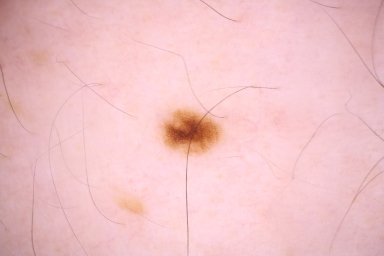melanoma: (163, 111, 220, 153)
